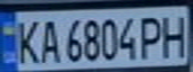0: (100, 15, 121, 62)
4: (118, 14, 142, 61)
6: (60, 15, 84, 63)
8: (81, 15, 103, 62)
A: (36, 16, 60, 64)
H: (157, 11, 190, 58)
K: (9, 16, 42, 65)
P: (136, 12, 166, 60)
